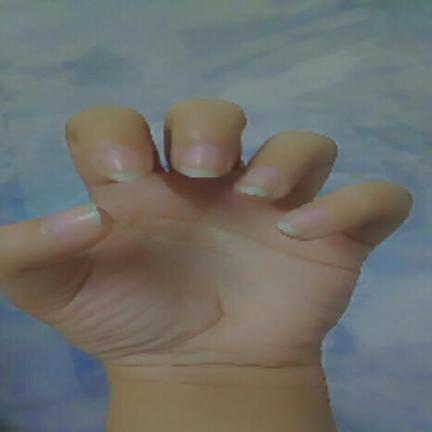Nail: (45, 202, 101, 237), (104, 145, 149, 184), (180, 140, 223, 178), (234, 164, 278, 197), (277, 208, 326, 236)
